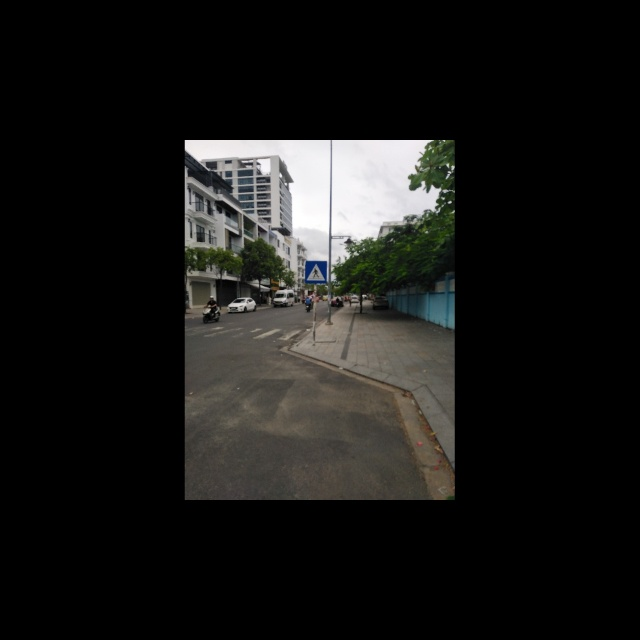Đường dành cho người đi bộ: (305, 261, 327, 284)
